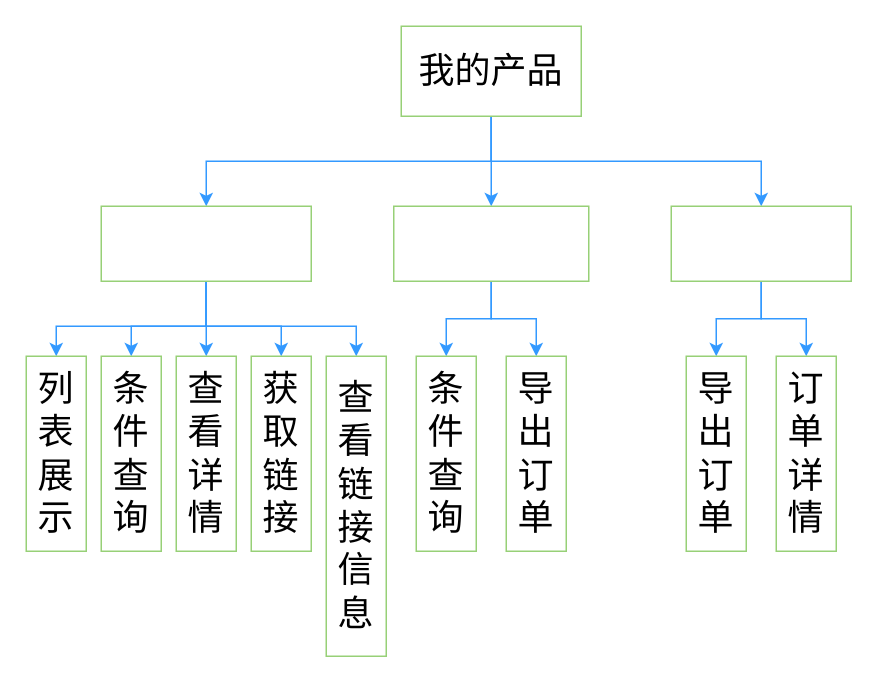
Image size: 878x683. Some labels were removed from this diagram. Each missing label, with the centre of its shape:
产品列表: the point at 205,243
收益记录: the point at 760,243
订单列表: the point at 490,243
